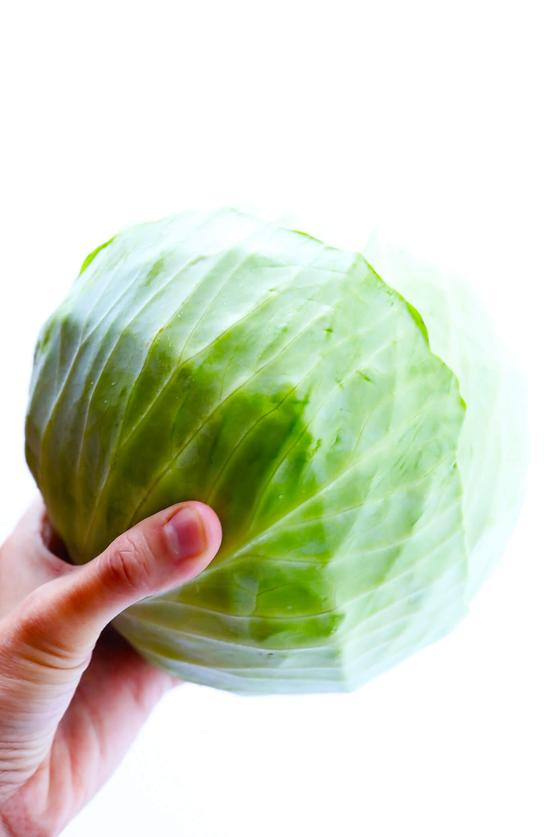cabbage: (48, 217, 468, 684)
